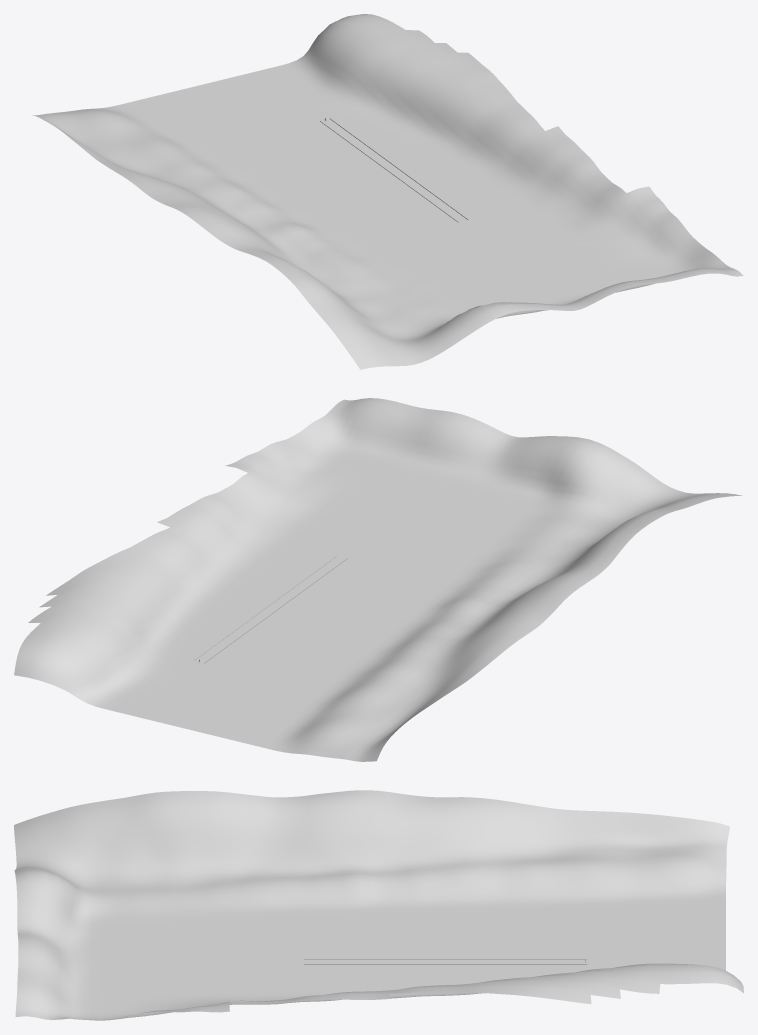
Rendered from drag_strip.glb.
3 views of the same model, one above another, from view 1: azimuth 30°, elevation 25°; view 2: azimuth 150°, elevation 25°; view 3: azimuth 270°, elevation 25° (orthographic). The views are drawn at different scales.
Visible parts, largest first — view 1: Background Hills, Road, 400m segment; view 2: Background Hills, Road, 400m segment; view 3: Background Hills, Road, 400m segment.
Part boxes in pixels (bbox=[...]): Background Hills: bbox=[32, 14, 743, 369]; Road: bbox=[302, 109, 565, 286]; 400m segment: bbox=[320, 118, 468, 222]; Background Hills: bbox=[14, 398, 742, 761]; Road: bbox=[175, 489, 449, 673]; 400m segment: bbox=[194, 555, 347, 663]; Background Hills: bbox=[14, 790, 743, 1020]; Road: bbox=[133, 952, 609, 972]; 400m segment: bbox=[304, 959, 587, 964].
Bounding box in the file's own units: 667 × 81.46 × 1030.
1 material, 1 textured.
